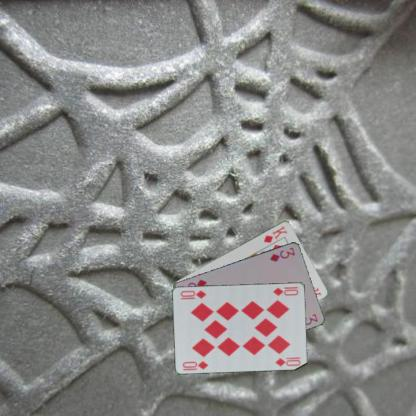10d: (270, 284, 300, 296), (180, 359, 210, 370)
3d: (268, 244, 297, 263)
Kd: (261, 223, 288, 244)
